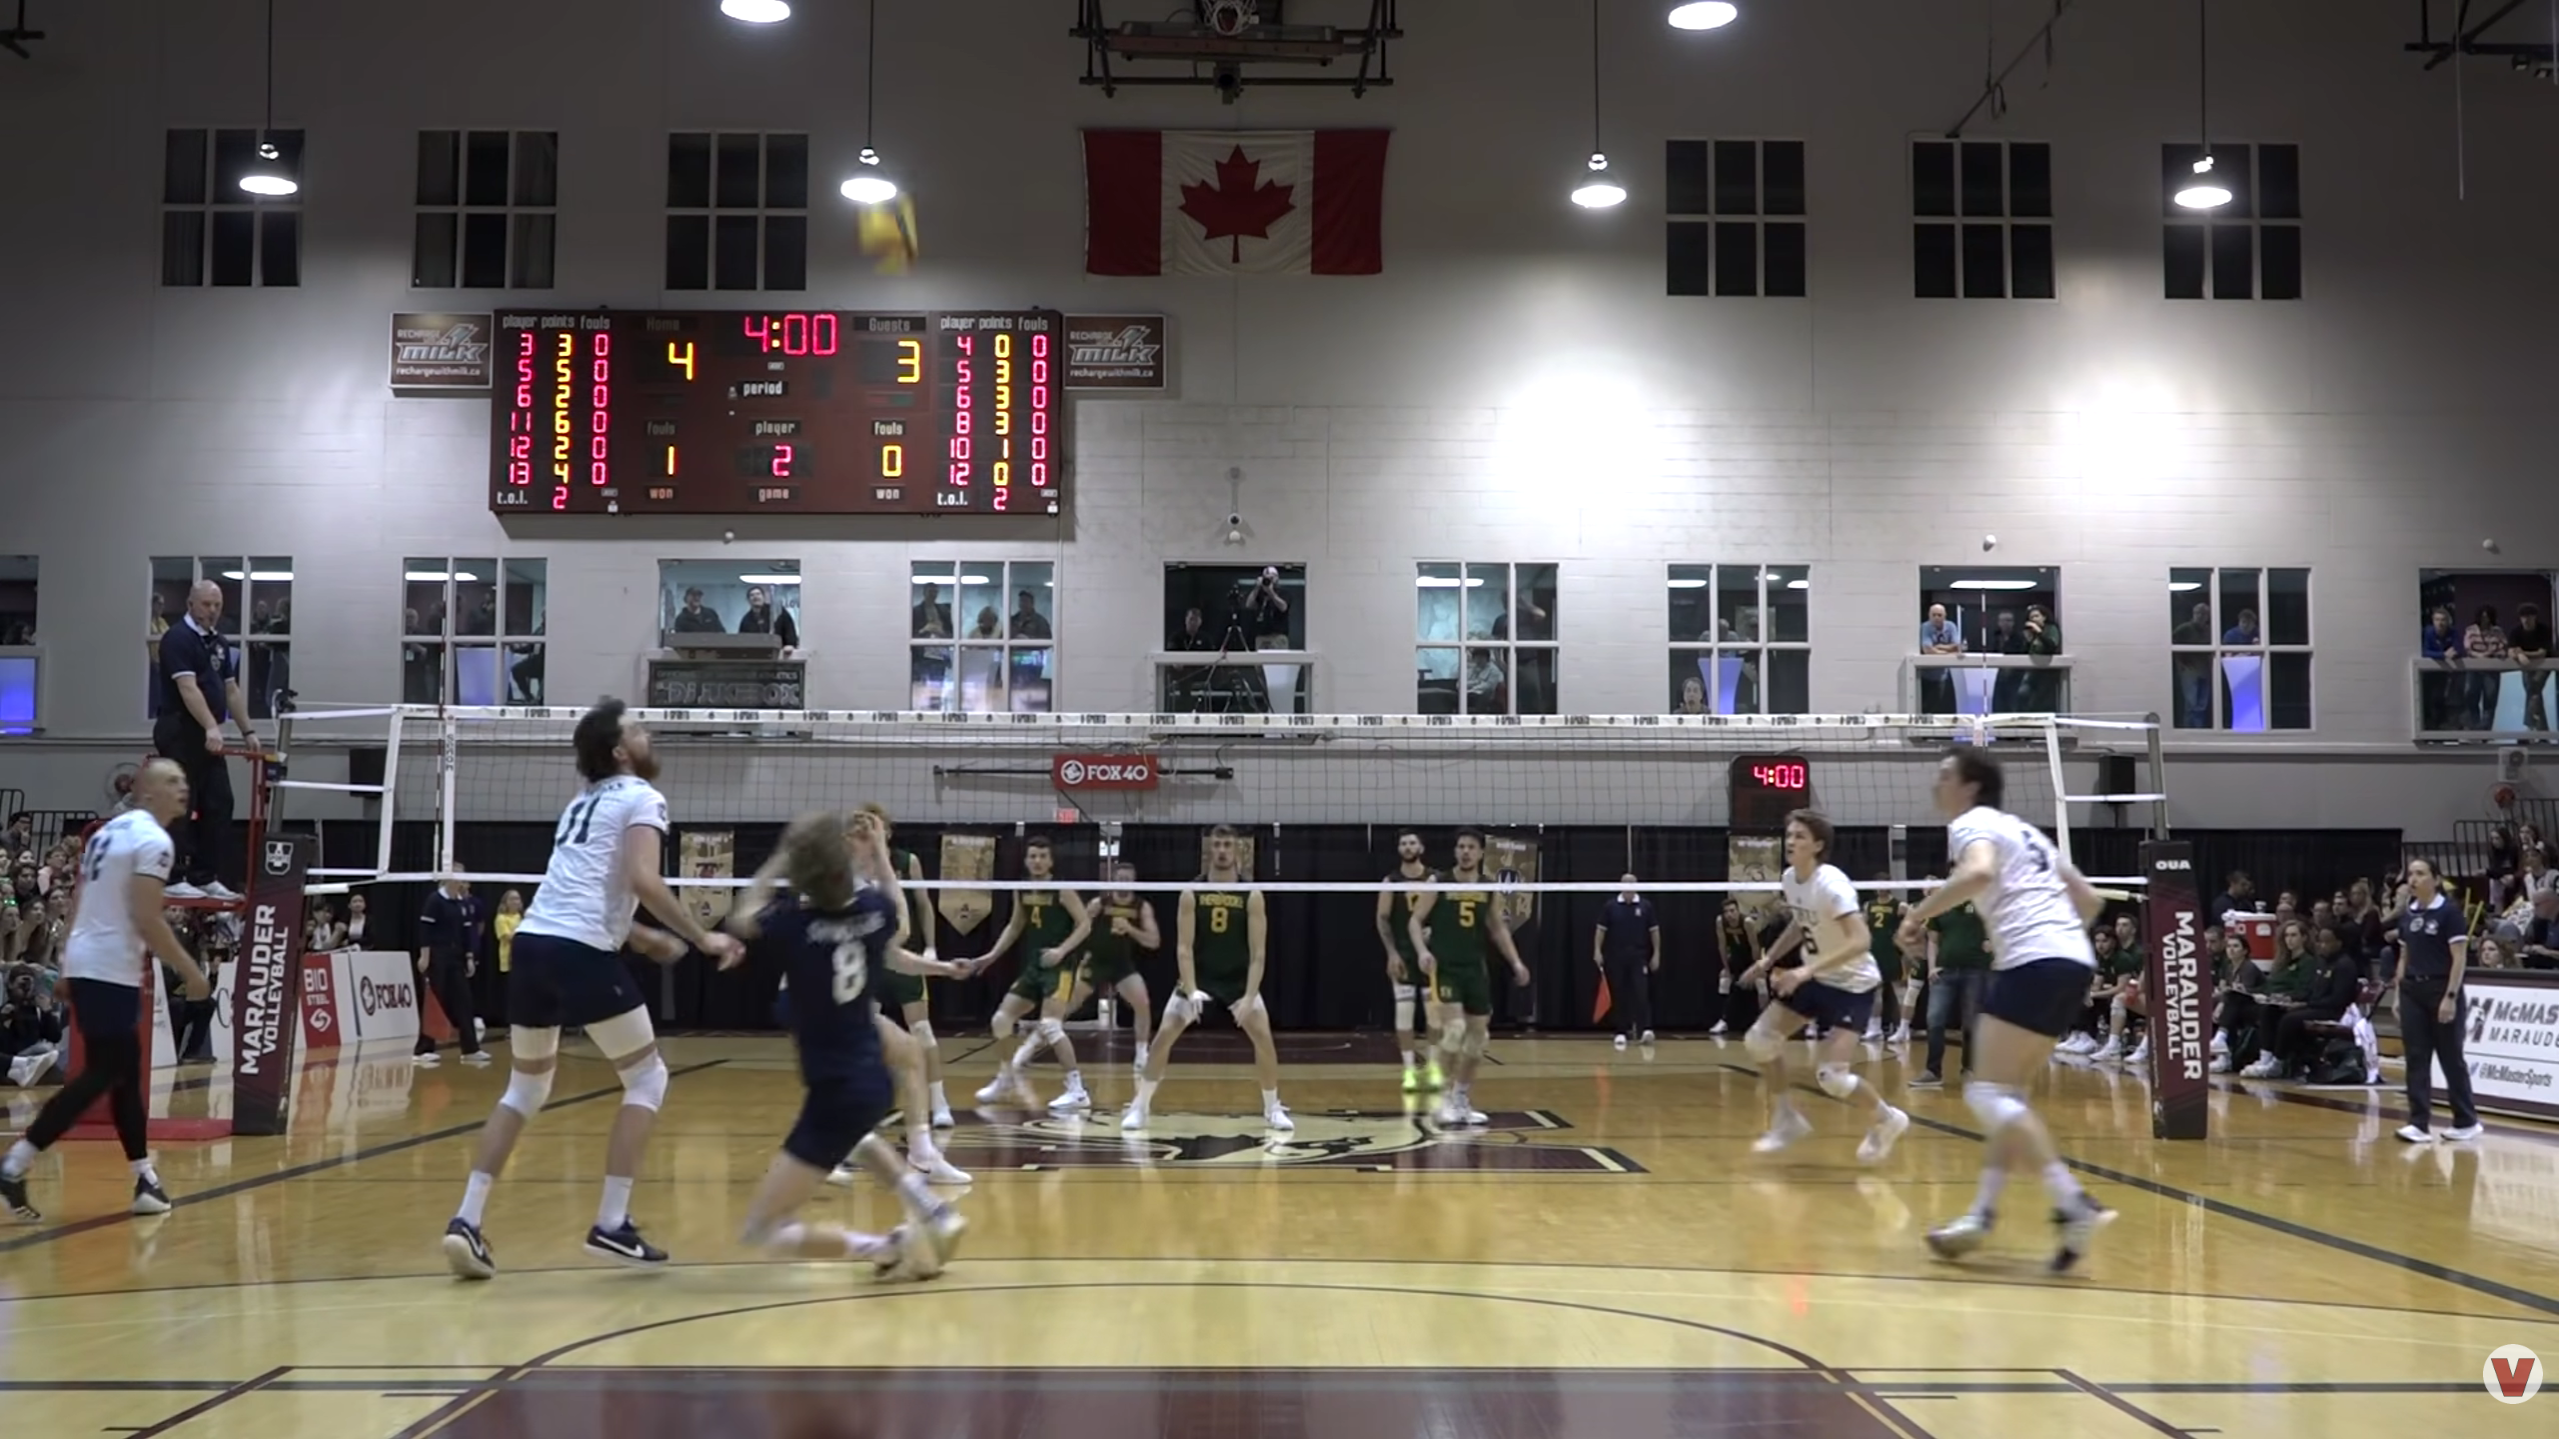Ball: (858, 192, 923, 278)
